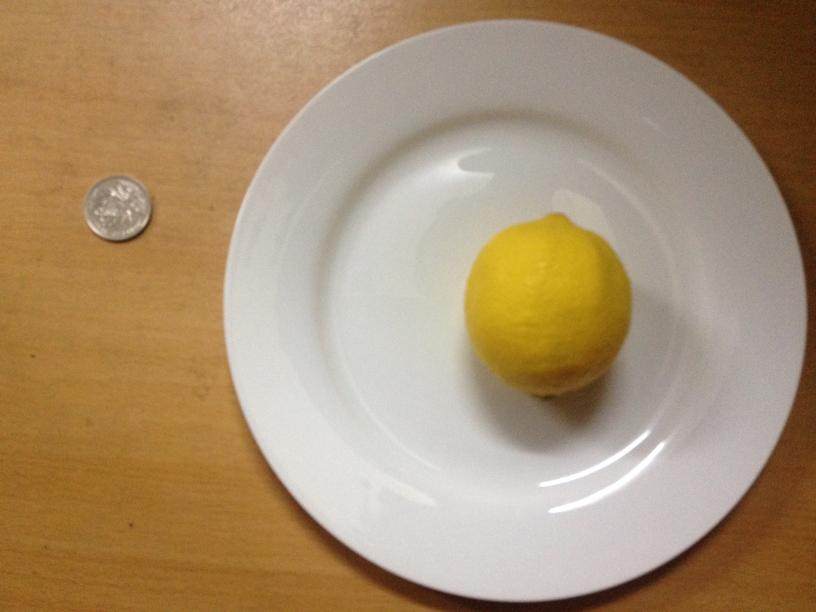coin: (81, 175, 151, 242)
lemon: (471, 212, 630, 398)
